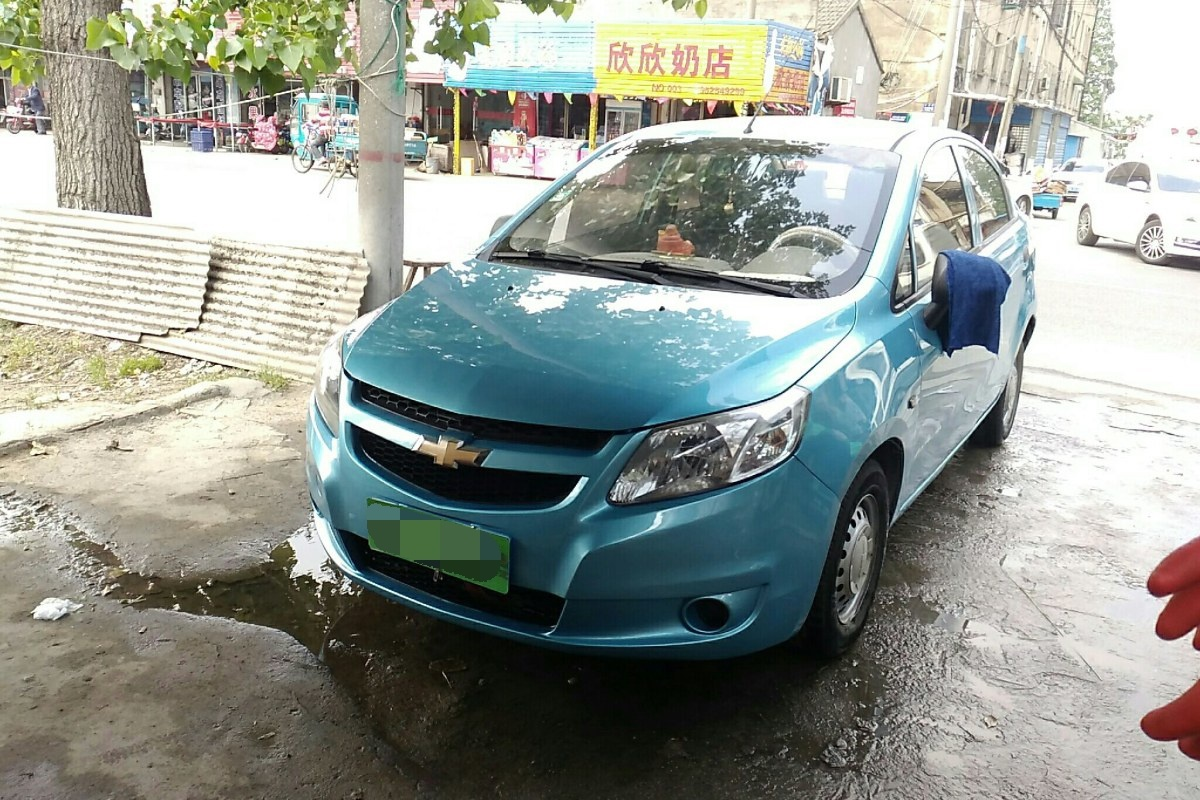family sedan: (305, 90, 1053, 659)
